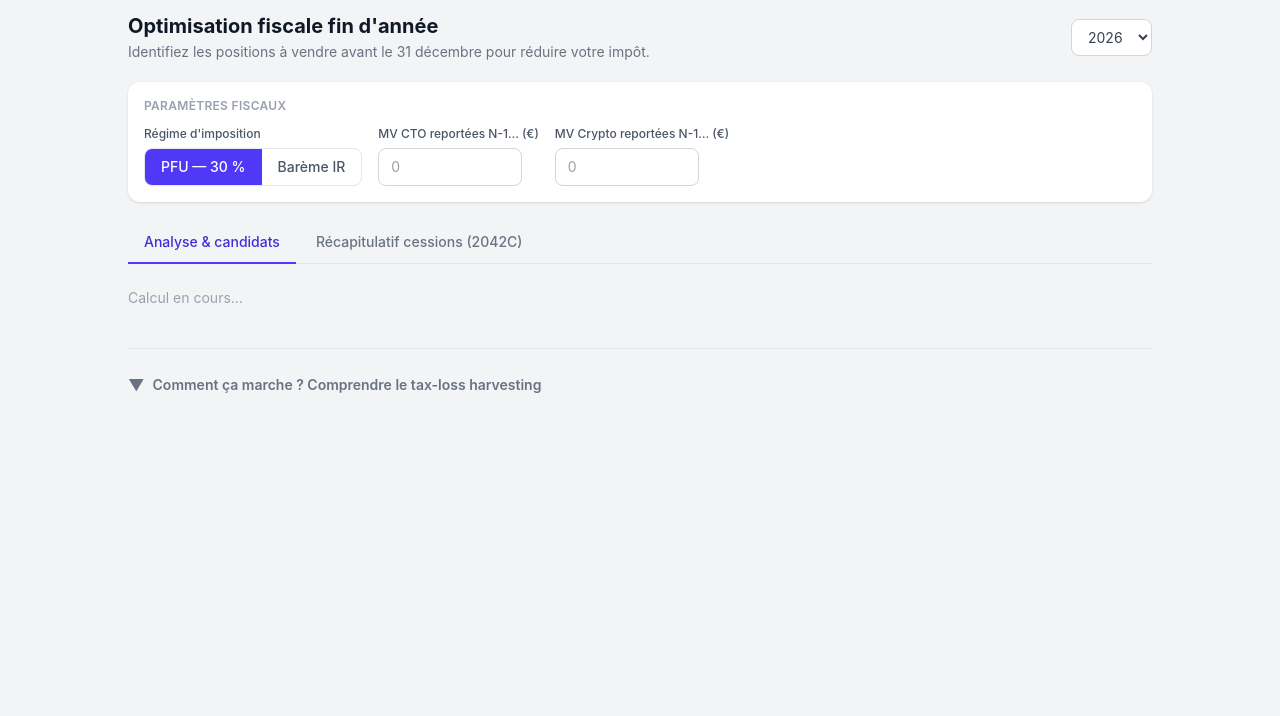
it: TaxLossHarvestingPage › affiche "Aucune cession" si la liste est vide dans l'onglet cessions
The width and height of the screenshot is (1280, 716).
Click the button "Récapitulatif cessions (2042C)" at (419, 243), box top-left (300, 222), bottom-right (538, 264)
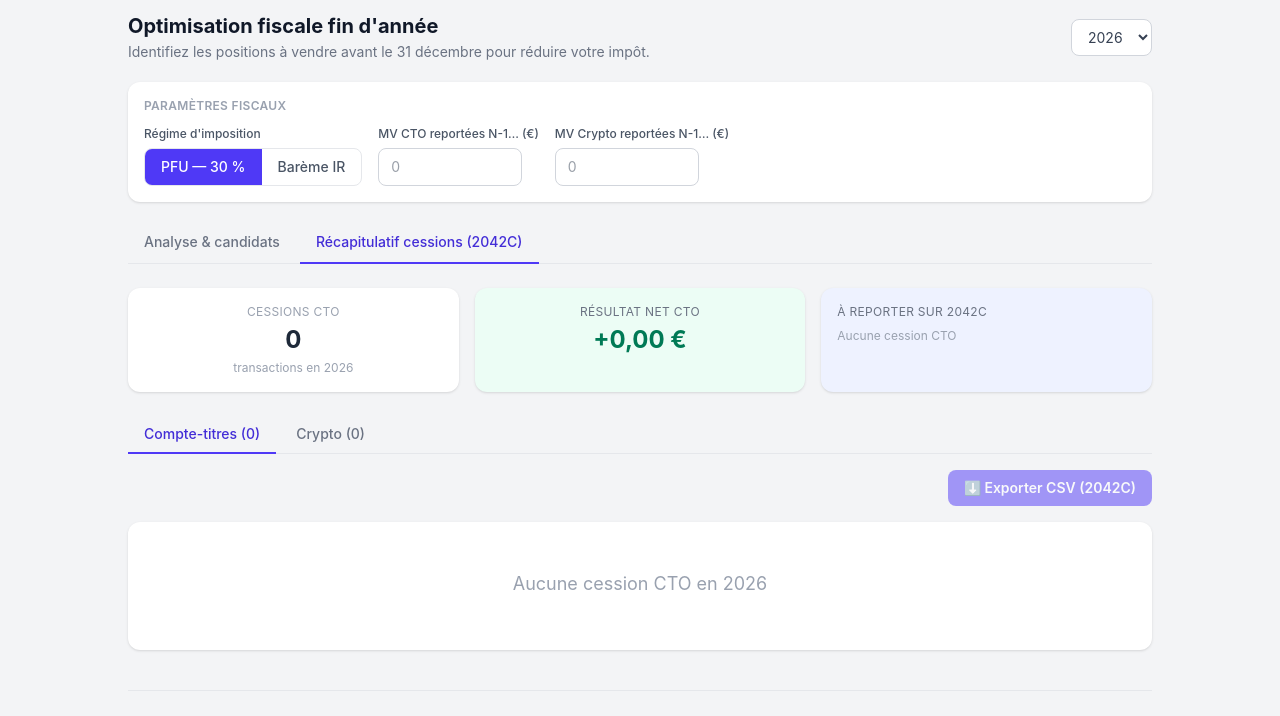
Check: the text "Aucune cession CTO en 2026" is shown, box top-left (513, 573), bottom-right (767, 594)
